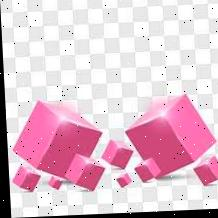cube: (122, 97, 216, 177), (12, 99, 101, 179)
